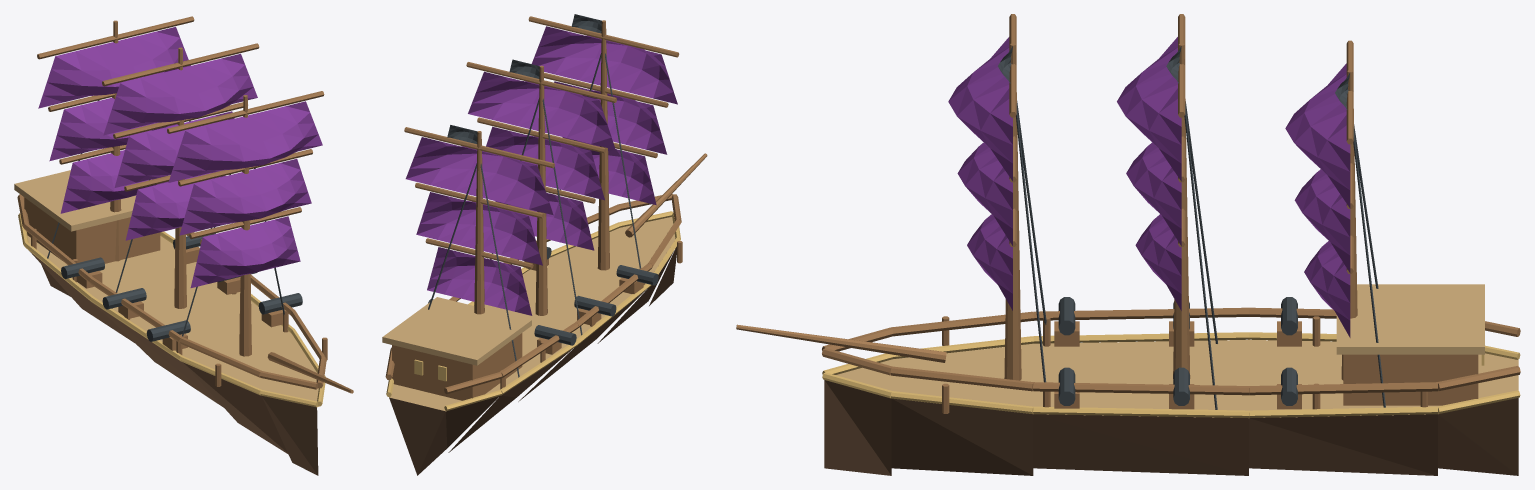
File: npc_shadow.glb
The picture shows the model from 3 angles, left to right: view 1: azimuth 30°, elevation 25°; view 2: azimuth 150°, elevation 25°; view 3: azimuth 270°, elevation 25°; orthographic projection. The views are drawn at different scales.
Visible parts, largest first — view 1: npc_shadow; view 2: npc_shadow; view 3: npc_shadow.
Boxes of the visible parts, <box> form: npc_shadow: <box>14,16,353,475</box>; npc_shadow: <box>382,14,707,475</box>; npc_shadow: <box>736,14,1520,475</box>.
Size of the model in its own units: 2.75 by 5.65 by 9.31.
